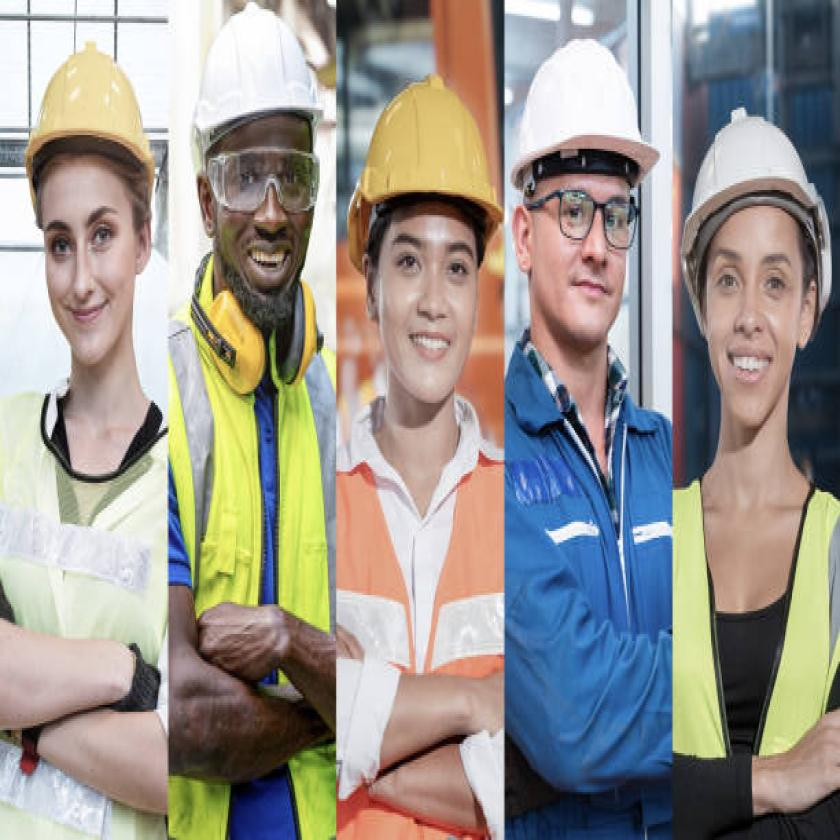Con_casco: (669, 89, 839, 450), (342, 58, 504, 426), (188, 2, 330, 353), (509, 40, 666, 357), (22, 25, 158, 382)
